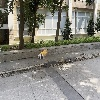fire: (40, 49, 48, 56)
